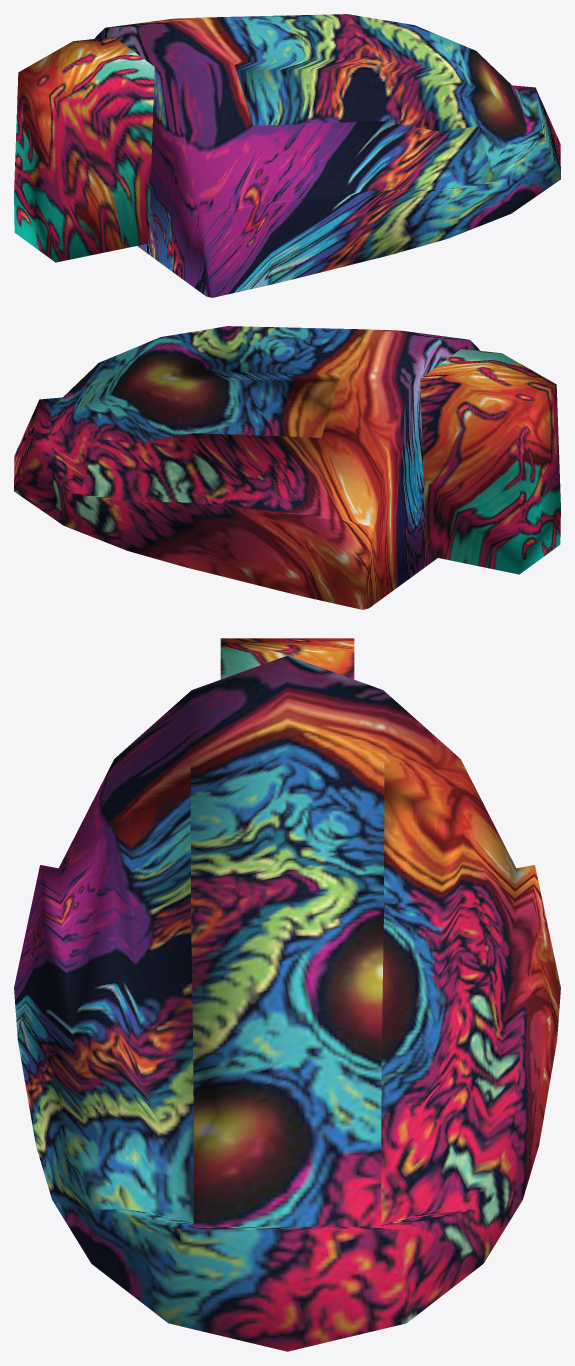
Rendered from foot.dae.
3 renders of one model, top to bottom at view 1: azimuth 30°, elevation 25°; view 2: azimuth 150°, elevation 25°; view 3: azimuth 270°, elevation 25°, orthographic. The views are drawn at different scales.
Visible parts, largest first — view 1: test003_007; view 2: test003_007; view 3: test003_007.
Boxes of the visible parts, <box> form: test003_007: <box>14,14,560,297</box>; test003_007: <box>14,326,560,609</box>; test003_007: <box>14,638,560,1351</box>.
Size of the model in its own units: 0.3615 by 0.1999 by 0.1471.
1 material, 1 textured.
